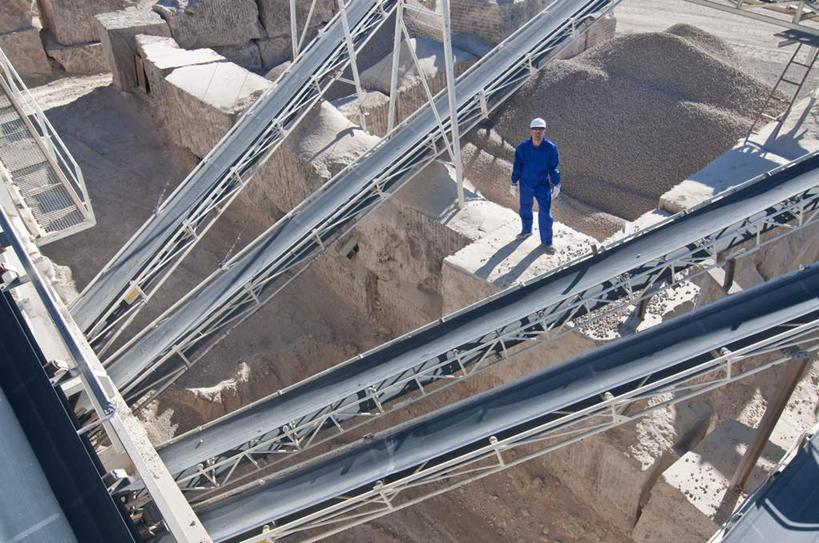helmet: (531, 119, 549, 132)
